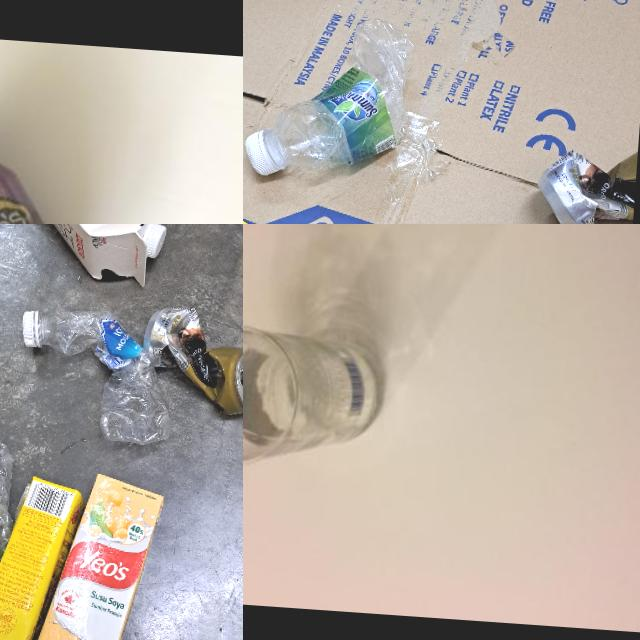caixinha: (31, 469, 165, 640), (0, 472, 85, 640), (0, 224, 163, 287)
garrafa de vidro: (243, 317, 388, 472)
garrafa plástica: (262, 12, 417, 176), (31, 304, 178, 446)
lata: (138, 304, 243, 416), (533, 139, 637, 224)
papelão: (243, 0, 640, 224)
tampa plástica: (243, 129, 278, 176), (19, 309, 38, 347)
